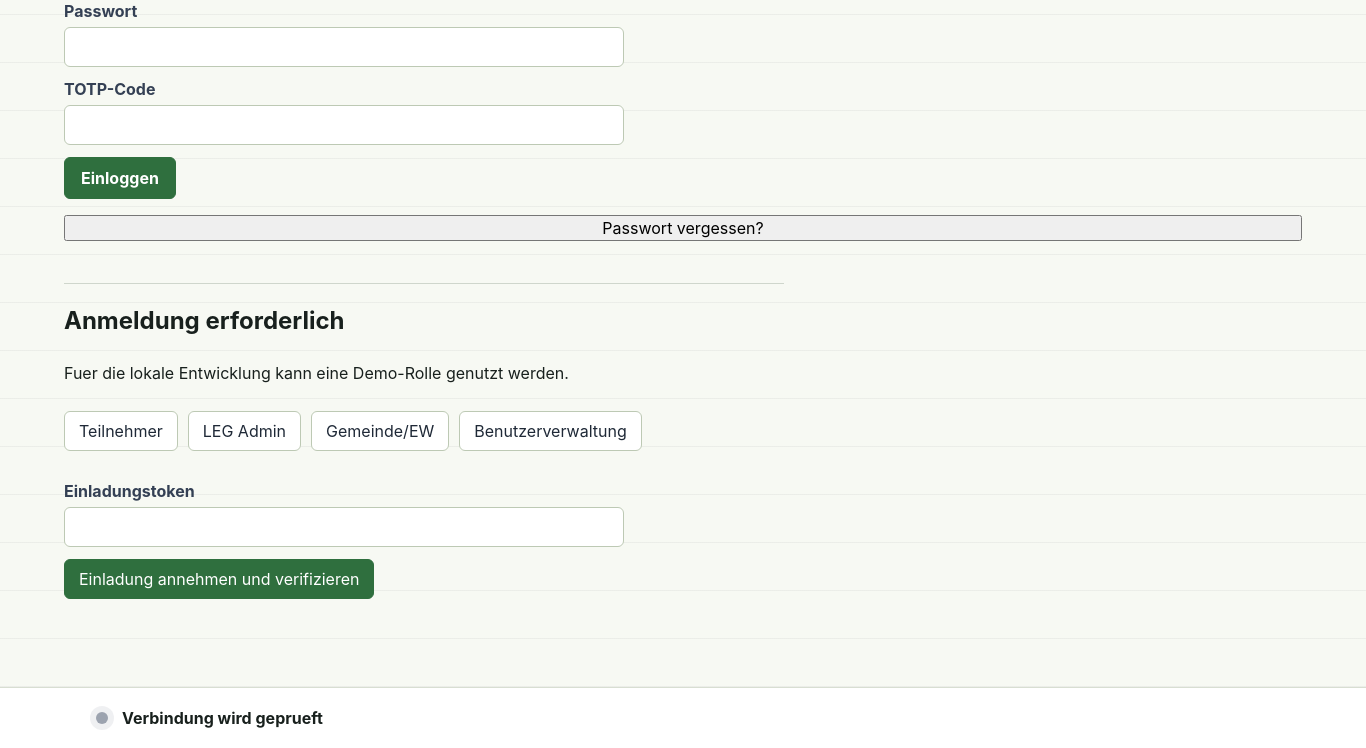
Test: Portal shell › zeigt Gemeinde/EW das Mitgliederregister ohne private Felder
(page scrolled)
Click the button "Gemeinde/EW" at (380, 431), box x1=311 y1=411 x2=449 y2=451
(page scrolled)
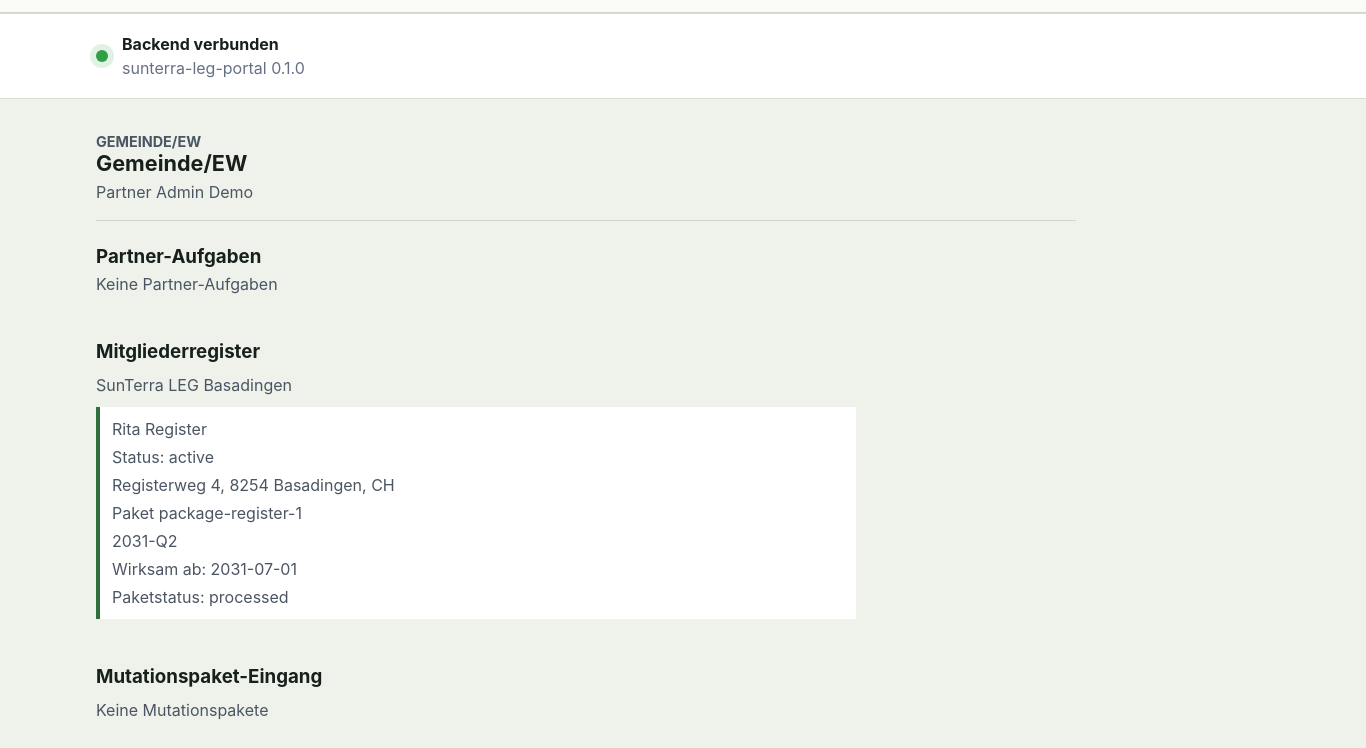
Result: the heading "Mitgliederregister" is shown at x1=96 y1=340 x2=260 y2=363
Result: the text "SunTerra LEG Basadingen" is shown at x1=96 y1=375 x2=292 y2=395
Result: the text "Rita Register" is shown at x1=112 y1=419 x2=207 y2=439
